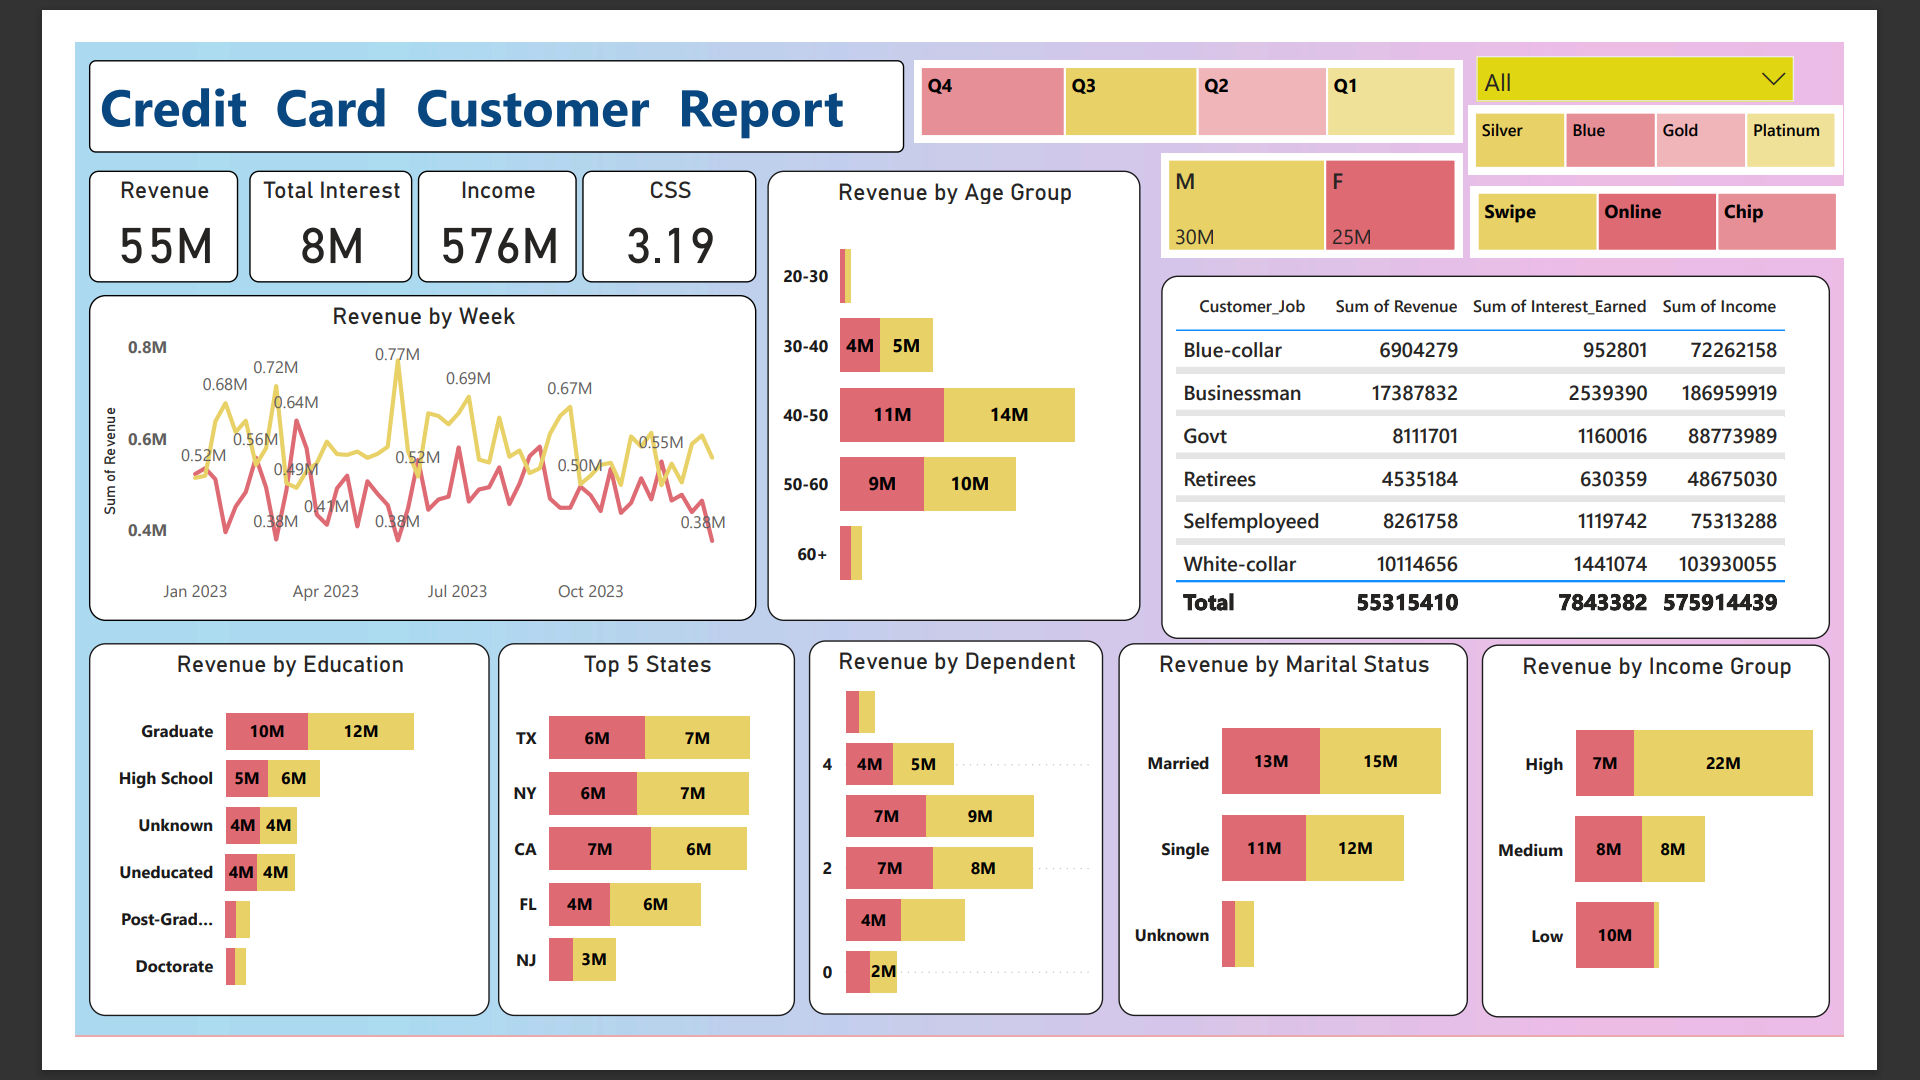

The page's visual inventory and layout, read from the dashboard file:
{"tool":"powerbi","page":{"name":"cc_customer","canvas":[1280,720],"ordinal":3},"visuals":[{"type":"textbox","box":[9.5,13.1,590.5,66.7],"z":0},{"type":"barChart","title":"Revenue by Income Group","fields":{"Y":["Sum(credit_card.Revenue)"],"Category":["customer.IncomeGroup"],"Series":["customer.Gender"]},"box":[1017.9,435.7,252.4,270.2],"z":1000},{"type":"tableEx","fields":{"Values":["customer.Customer_Job","Sum(credit_card.Revenue)","Sum(credit_card.Interest_Earned)","Sum(customer.Income)"]},"box":[785.7,169,484.5,263.1],"z":2000},{"type":"card","title":"Revenue","fields":{"Values":["Sum(credit_card.Revenue)"]},"box":[9.5,92.9,108.3,81],"z":3000},{"type":"card","title":"Income","fields":{"Values":["Sum(customer.Income)"]},"box":[247.6,92.9,115.5,81],"z":4000},{"type":"card","title":"Total Interest","fields":{"Values":["Sum(credit_card.Interest_Earned)"]},"box":[126.2,92.9,117.9,81],"z":5000},{"type":"card","title":"CSS","fields":{"Values":["Avg(customer.Cust_Satisfaction_Score)"]},"box":[366.7,92.9,126.2,81],"z":6000},{"type":"slicer","fields":{"Values":["credit_card.Week_Start_Date"]},"box":[1003.6,0,250,42.9],"z":7000},{"type":"treemap","fields":{"Group":["credit_card.Qtr"],"Values":["Avg(credit_card.Client_Num)"]},"box":[607.1,13.1,396.4,59.5],"z":8000},{"type":"treemap","fields":{"Group":["credit_card.Card_Category"],"Values":["Avg(credit_card.Client_Num)"]},"box":[1008.3,46.4,270.2,50],"z":9000},{"type":"lineChart","title":"Revenue by Week","fields":{"Category":["credit_card.Week_Start_Date.Variation.Date Hierarchy.Year","credit_card.Week_Start_Date.Variation.Date Hierarchy.Month","credit_card.Week_Start_Date.Variation.Date Hierarchy.Day"],"Y":["Sum(credit_card.Revenue)"],"Series":["customer.Gender"]},"box":[9.5,183.3,483.3,235.7],"z":10000},{"type":"treemap","fields":{"Group":["customer.Gender"],"Values":["Sum(credit_card.Revenue)"]},"box":[785.7,79.8,217.9,76.2],"z":11000},{"type":"barChart","title":"Revenue by Age Group","fields":{"Y":["Sum(credit_card.Revenue)"],"Category":["customer.AgeGroup"],"Series":["customer.Gender"]},"box":[501.2,92.9,270.2,326.2],"z":12000},{"type":"barChart","title":"Revenue by Dependent","fields":{"Y":["Sum(credit_card.Revenue)"],"Category":["customer.Dependent_Count"],"Series":["customer.Gender"]},"box":[531,433.3,213.1,270.2],"z":13000},{"type":"barChart","title":"Revenue by Education","fields":{"Y":["Sum(credit_card.Revenue)"],"Category":["customer.Education_Level"],"Series":["customer.Gender"]},"box":[9.5,434.5,290.5,270.2],"z":14000},{"type":"barChart","title":"Top 5 States","fields":{"Y":["Sum(credit_card.Revenue)"],"Category":["customer.state_cd"],"Series":["customer.Gender"]},"box":[306,434.5,215.5,270.2],"z":15000},{"type":"barChart","title":"Revenue by Marital Status","fields":{"Y":["Sum(credit_card.Revenue)"],"Category":["customer.Marital_Status"],"Series":["customer.Gender"]},"box":[754.8,434.5,253.6,270.2],"z":16000},{"type":"treemap","fields":{"Group":["credit_card.Use Chip"],"Values":["Avg(credit_card.Client_Num)"]},"box":[1009.5,103.6,270.2,52.4],"z":17000}]}

Visuals, with their boxes in screenshot pixels (x1, y1, x2, y2), scaled from the page's 1280x720 canvas onto the 1920x1080 screenshot:
textbox: {"left": 14, "top": 20, "right": 900, "bottom": 120}
"Revenue by Income Group" barChart: {"left": 1527, "top": 654, "right": 1905, "bottom": 1059}
tableEx - customer.Customer_Job x Sum(credit_card.Revenue): {"left": 1179, "top": 254, "right": 1905, "bottom": 648}
"Revenue" card: {"left": 14, "top": 139, "right": 177, "bottom": 261}
"Income" card: {"left": 371, "top": 139, "right": 545, "bottom": 261}
"Total Interest" card: {"left": 189, "top": 139, "right": 366, "bottom": 261}
"CSS" card: {"left": 550, "top": 139, "right": 739, "bottom": 261}
slicer - credit_card.Week_Start_Date: {"left": 1505, "top": 0, "right": 1880, "bottom": 64}
treemap - credit_card.Qtr x Avg(credit_card.Client_Num): {"left": 911, "top": 20, "right": 1505, "bottom": 109}
treemap - credit_card.Card_Category x Avg(credit_card.Client_Num): {"left": 1512, "top": 70, "right": 1918, "bottom": 145}
"Revenue by Week" lineChart: {"left": 14, "top": 275, "right": 739, "bottom": 628}
treemap - customer.Gender x Sum(credit_card.Revenue): {"left": 1179, "top": 120, "right": 1505, "bottom": 234}
"Revenue by Age Group" barChart: {"left": 752, "top": 139, "right": 1157, "bottom": 629}
"Revenue by Dependent" barChart: {"left": 796, "top": 650, "right": 1116, "bottom": 1055}
"Revenue by Education" barChart: {"left": 14, "top": 652, "right": 450, "bottom": 1057}
"Top 5 States" barChart: {"left": 459, "top": 652, "right": 782, "bottom": 1057}
"Revenue by Marital Status" barChart: {"left": 1132, "top": 652, "right": 1513, "bottom": 1057}
treemap - credit_card.Use Chip x Avg(credit_card.Client_Num): {"left": 1514, "top": 155, "right": 1919, "bottom": 234}
